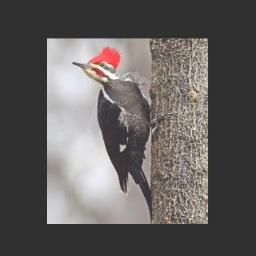Woodpecker: (73, 47, 172, 223)
